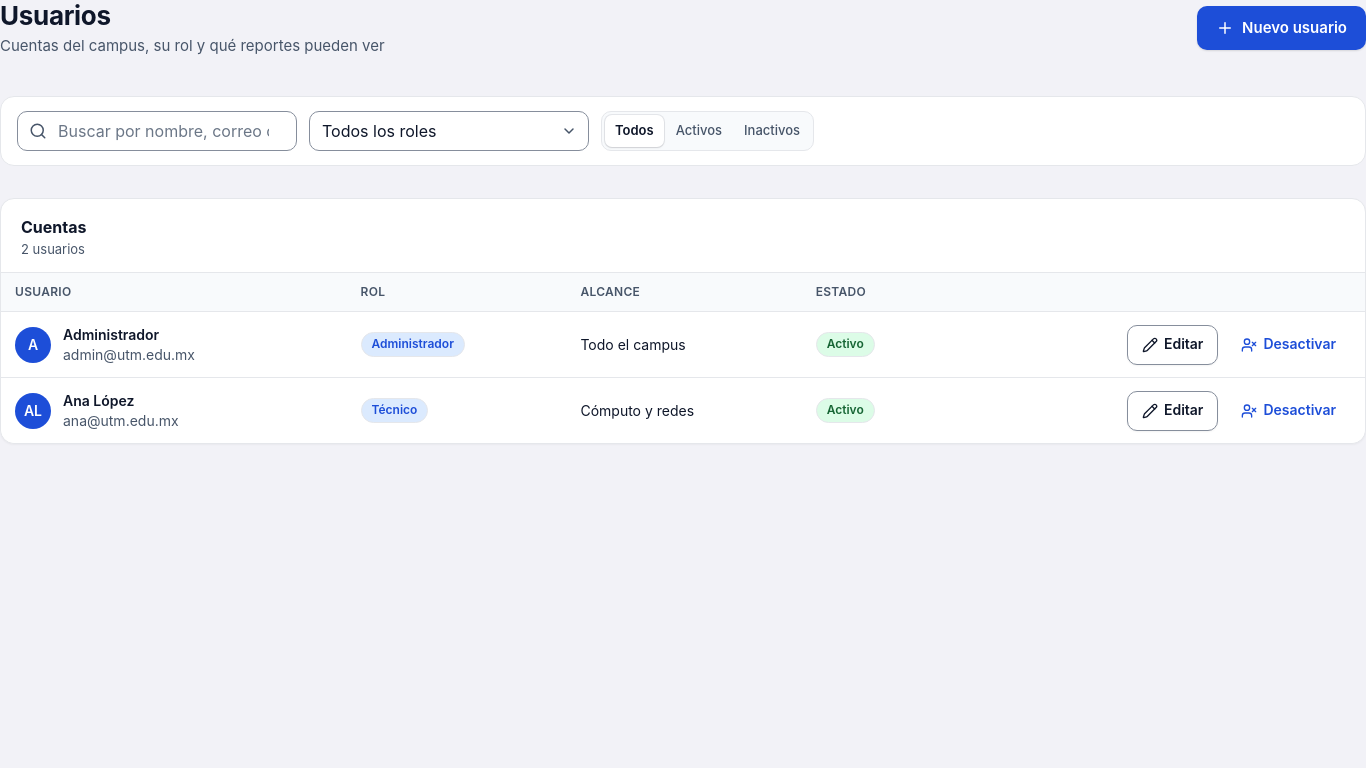
Test: AdminUsuarios (T-057) › crea usuario con rol y área y valida la contraseña inicial
Click the button "Nuevo usuario" at (1282, 28), box [1197,6,1365,50]
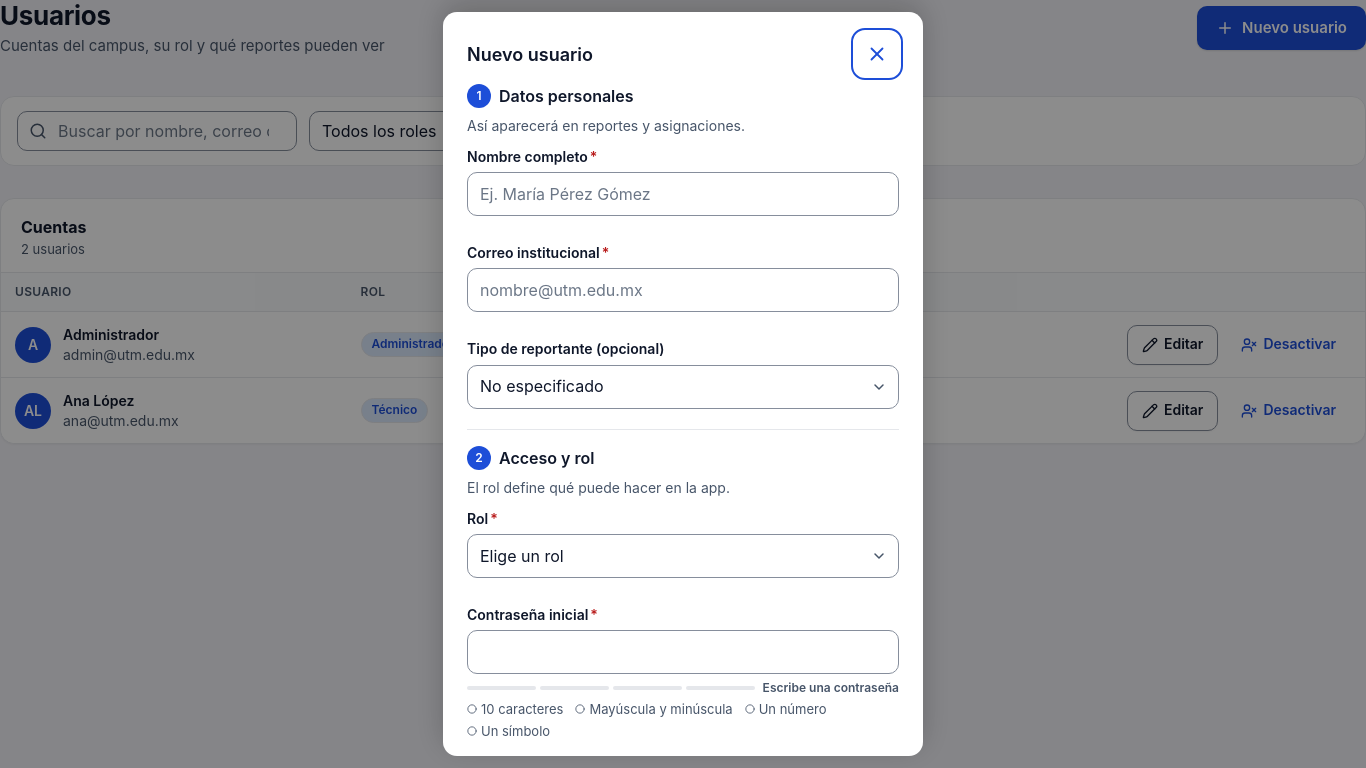
Type "María Pérez" into the field labelled "Nombre completo*" at (683, 194), box [467,172,899,216]
Type "maria@utm.edu.mx" into the field labelled "Correo institucional*" at (683, 290), box [467,268,899,312]
Select "Técnico" in the dropdown labelled "Rol*" at (683, 556), box [467,534,899,578]
(page scrolled)
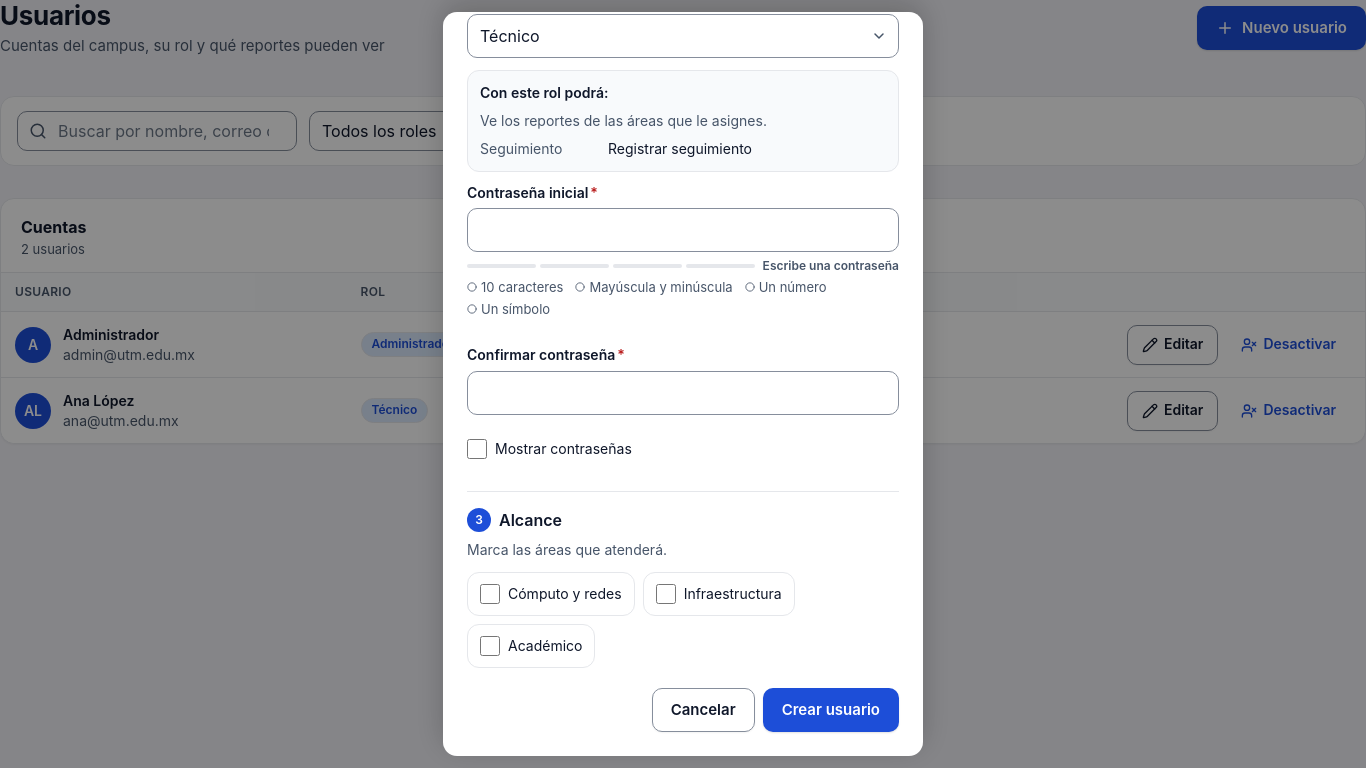
Click the checkbox labelled "Cómputo y redes" at (490, 594), box [480,584,500,604]
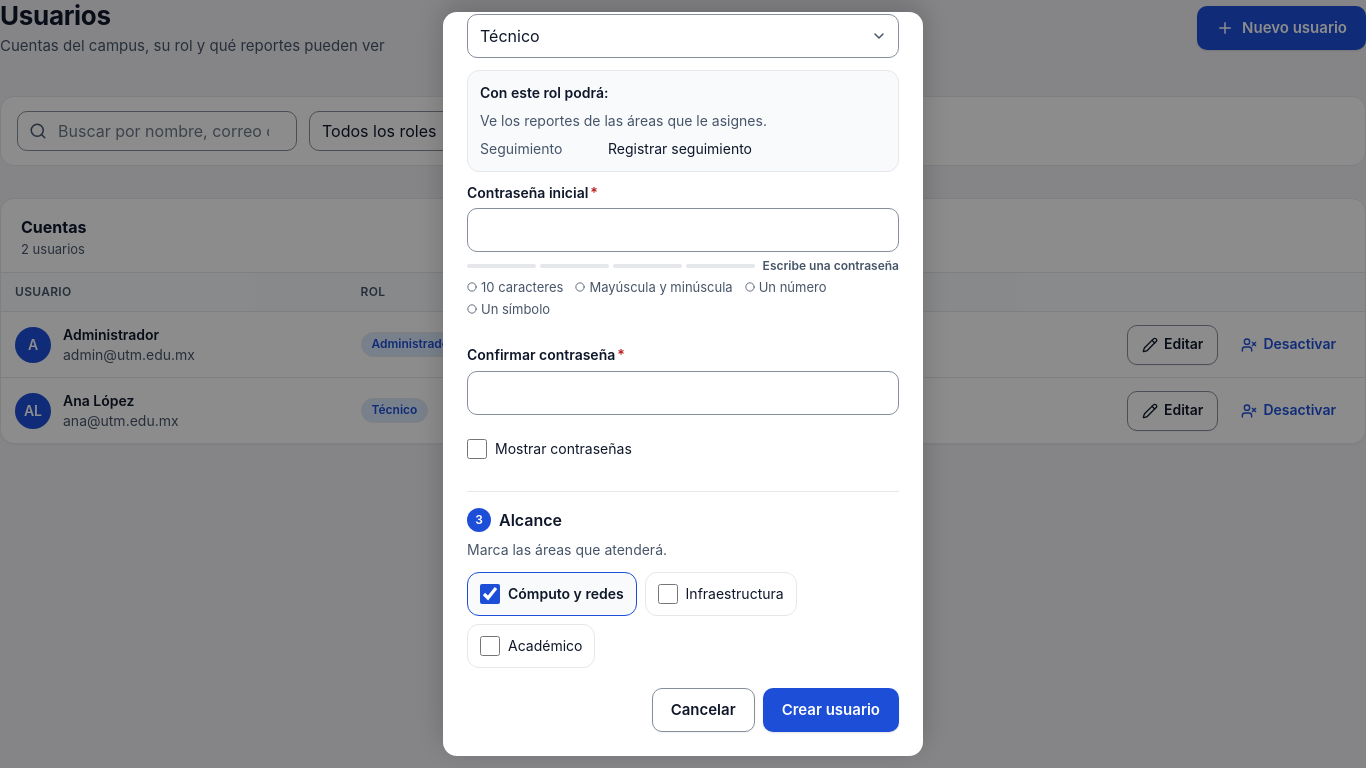
Type "ClaveSegura12!" into the password field labelled "Contraseña inicial*" at (683, 230), box [467,208,899,252]
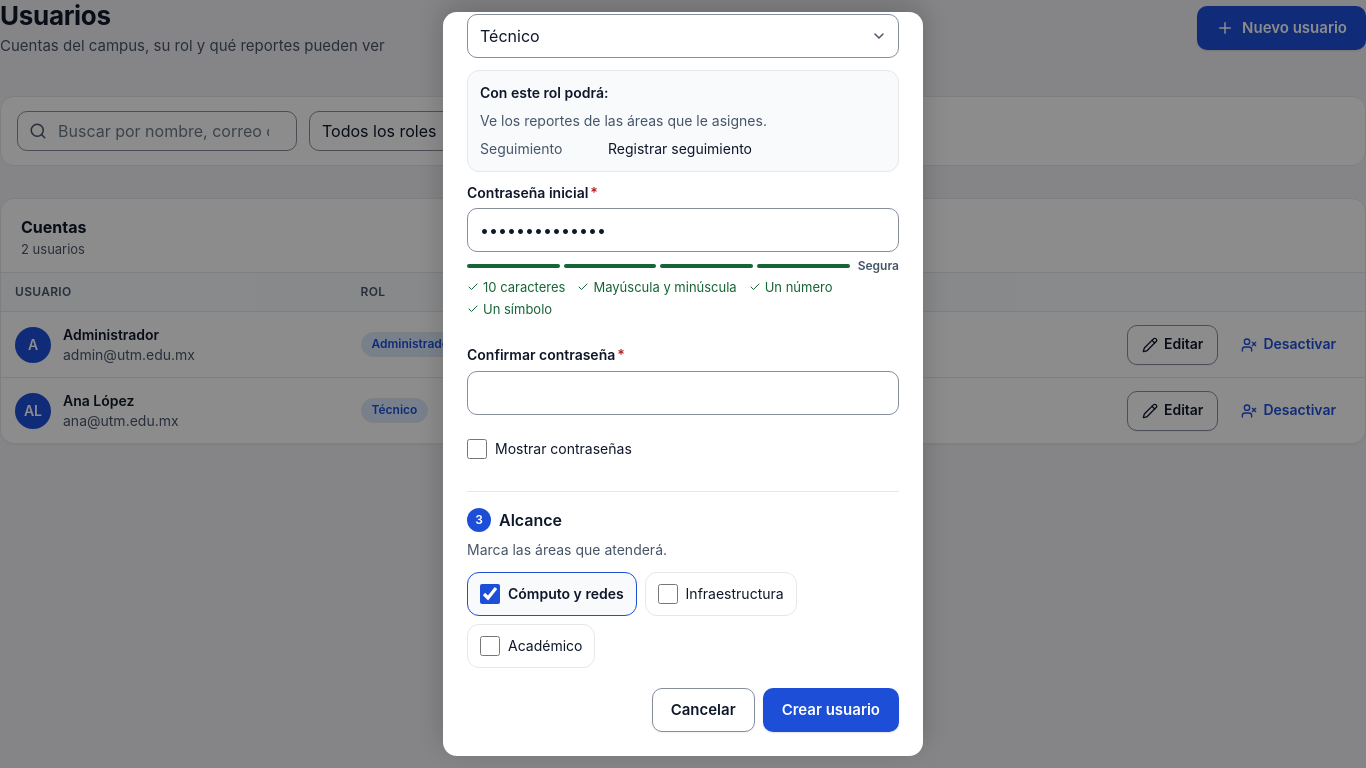
Type "ClaveSegura12!" into the password field labelled "Confirmar contraseña*" at (683, 392), box [467,370,899,414]
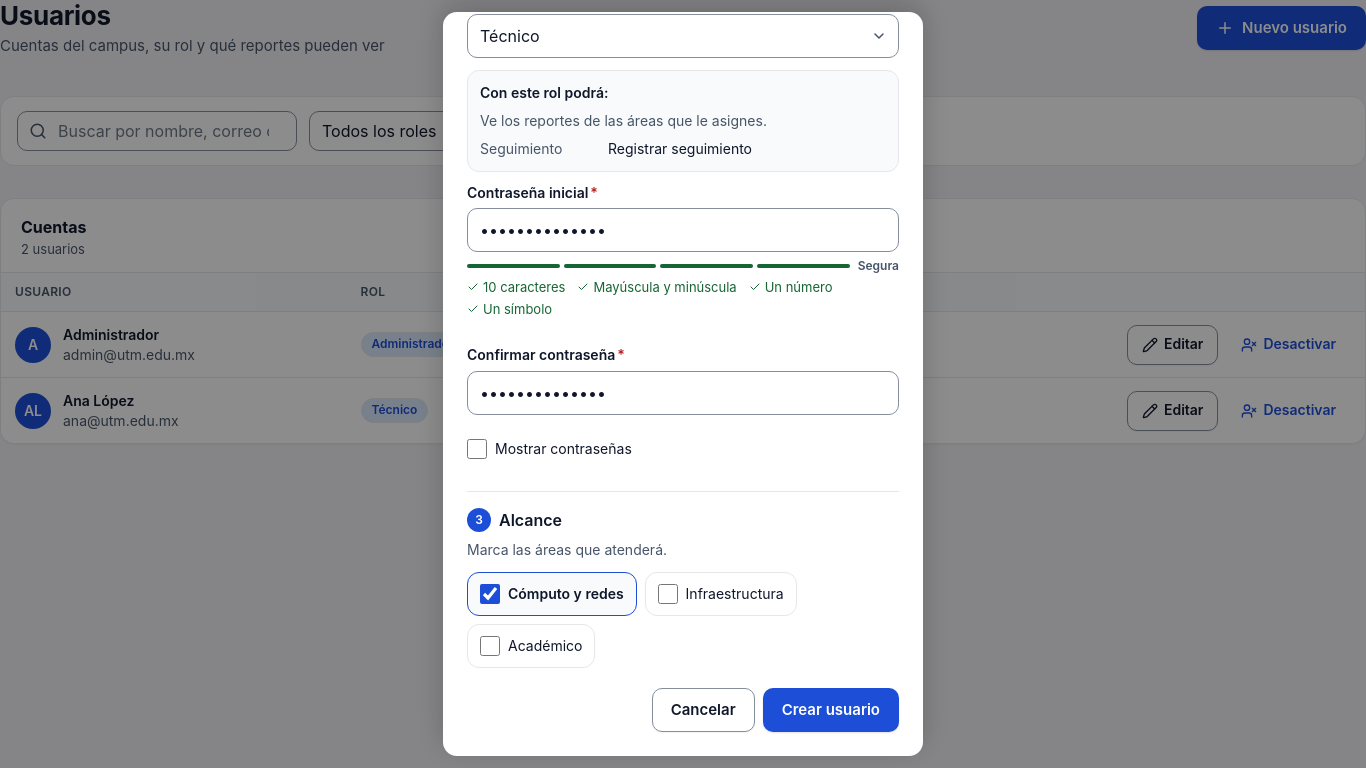
Click the button "Crear usuario" at (831, 710), box [763,688,899,732]
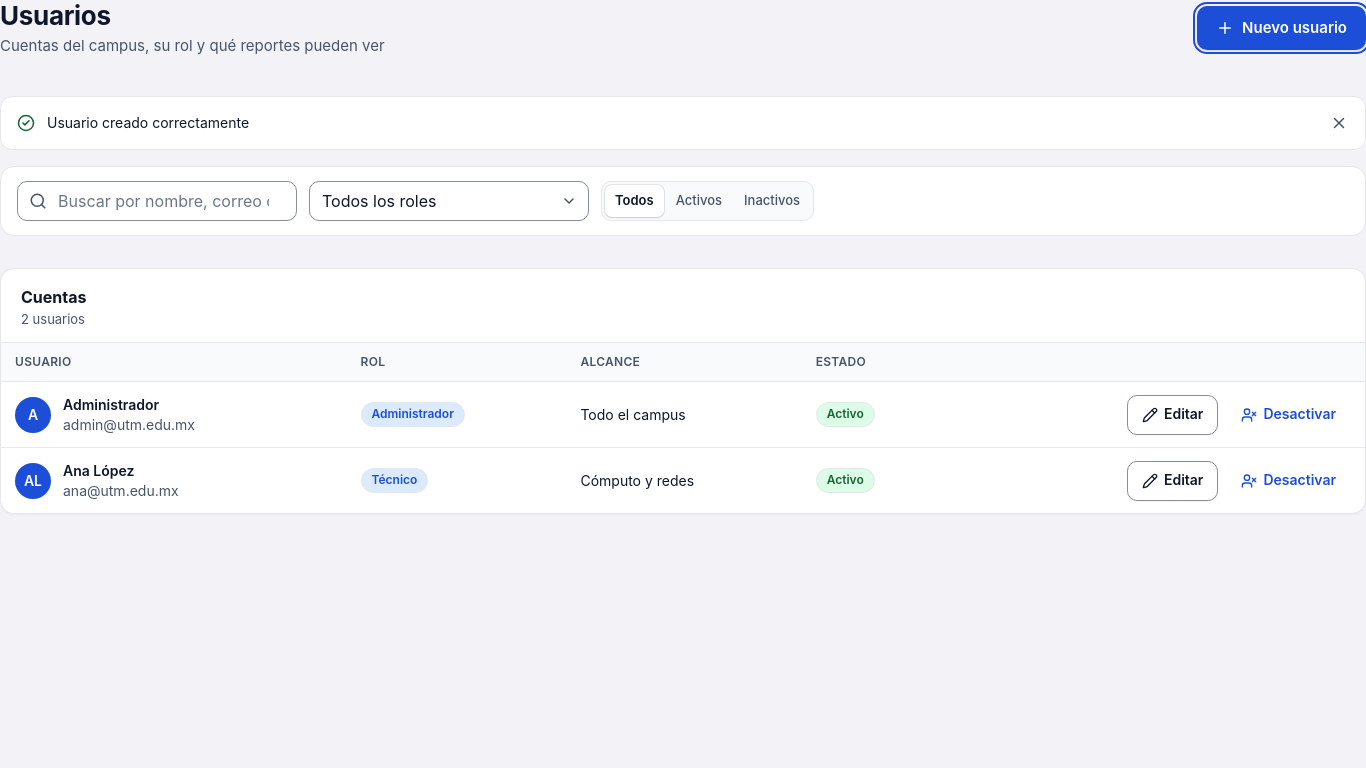
Result: the text "Usuario creado correctamente" is shown at [47,114,249,131]
Result: the label labelled "Contraseña inicial" is gone
